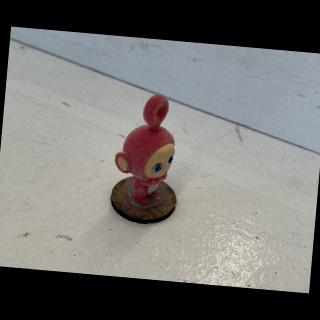teletubby: (115, 94, 175, 205)
